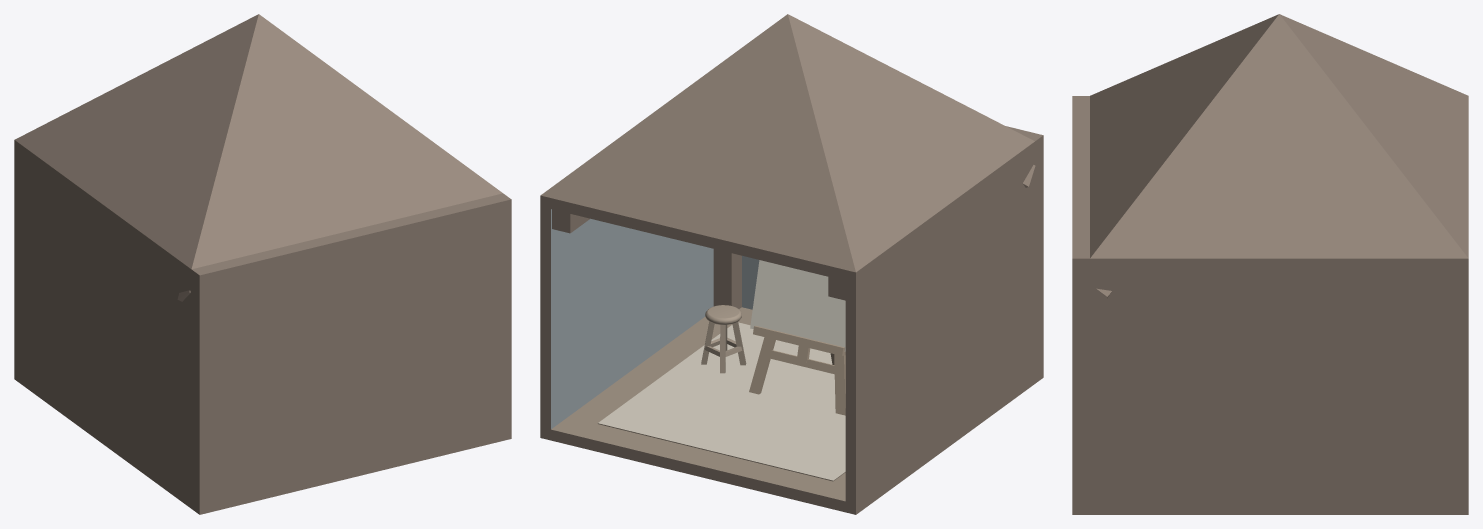
The model's file is Magic_Stage.fbx.
3 renders of one model, left to right at view 1: azimuth 30°, elevation 25°; view 2: azimuth 150°, elevation 25°; view 3: azimuth 270°, elevation 25°, orthographic. The views are drawn at different scales.
Visible parts, largest first — view 1: polySurface2; view 2: polySurface2, pCube20, pCube1, pCube17, pCube12, pCube13, pCylinder1, pCube4, pCube30; view 3: polySurface2, pCube1.
Part boxes in pixels (x1=…): polySurface2: x1=14, y1=14, x2=511, y2=514; polySurface2: x1=540, y1=14, x2=1043, y2=514; pCube20: x1=750, y1=260, x2=845, y2=351; pCube1: x1=713, y1=249, x2=741, y2=308; pCube17: x1=753, y1=326, x2=845, y2=355; pCube12: x1=749, y1=337, x2=775, y2=394; pCube13: x1=834, y1=354, x2=845, y2=415; pCylinder1: x1=705, y1=305, x2=741, y2=324; pCube4: x1=552, y1=209, x2=589, y2=233; pCube30: x1=769, y1=350, x2=834, y2=374; polySurface2: x1=1072, y1=14, x2=1468, y2=514; pCube1: x1=1090, y1=270, x2=1124, y2=512.
Bounding box in the file's own units: 20.13 × 23.64 × 20.24.
